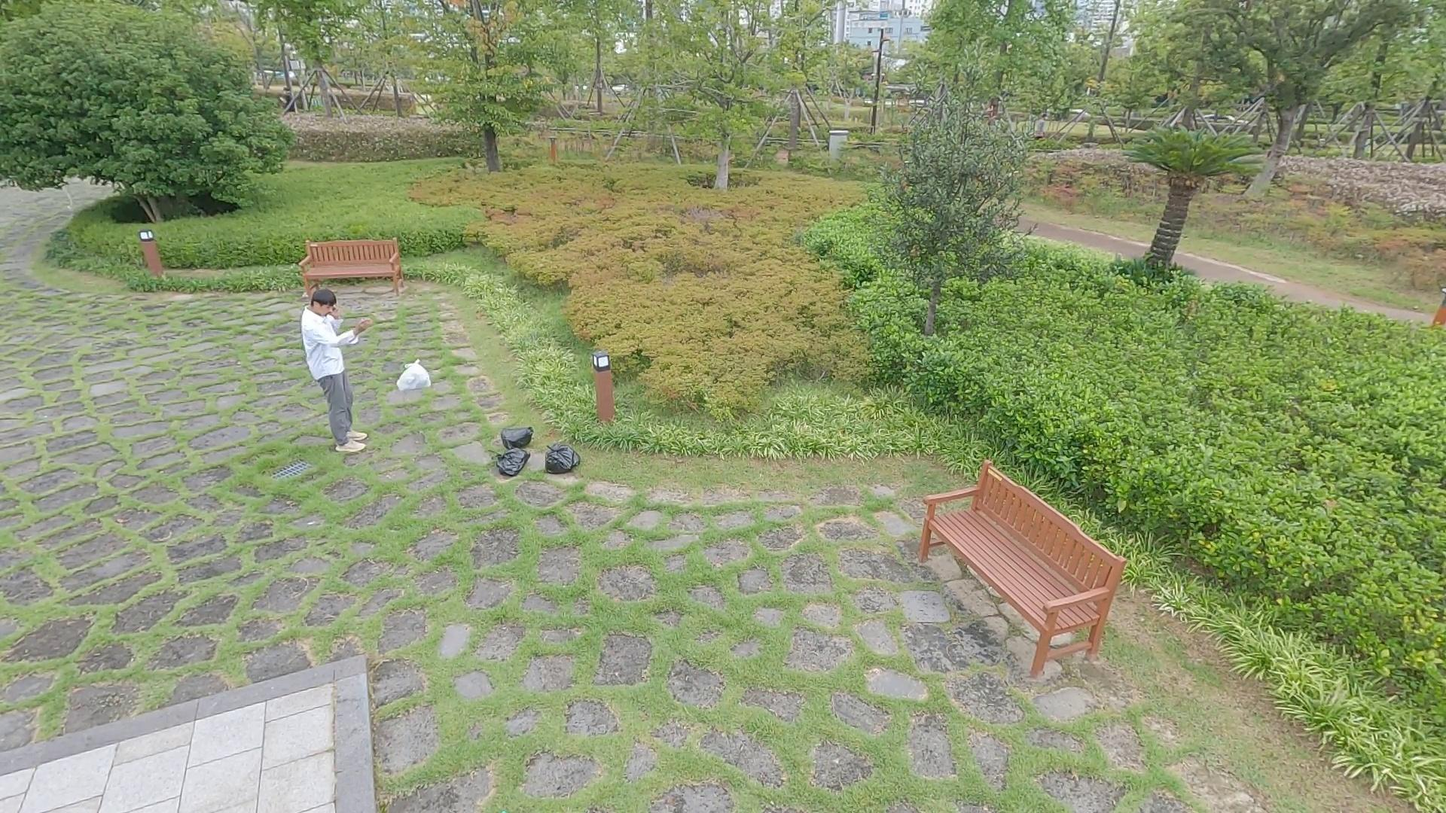person: (302, 288, 381, 455)
trash: (389, 354, 433, 403), (540, 440, 582, 477), (492, 443, 535, 478), (497, 422, 536, 451)
